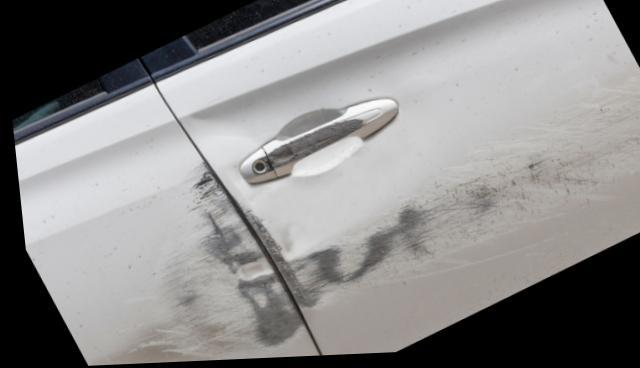scratch: (230, 64, 640, 316), (111, 161, 299, 362), (263, 121, 362, 170)
